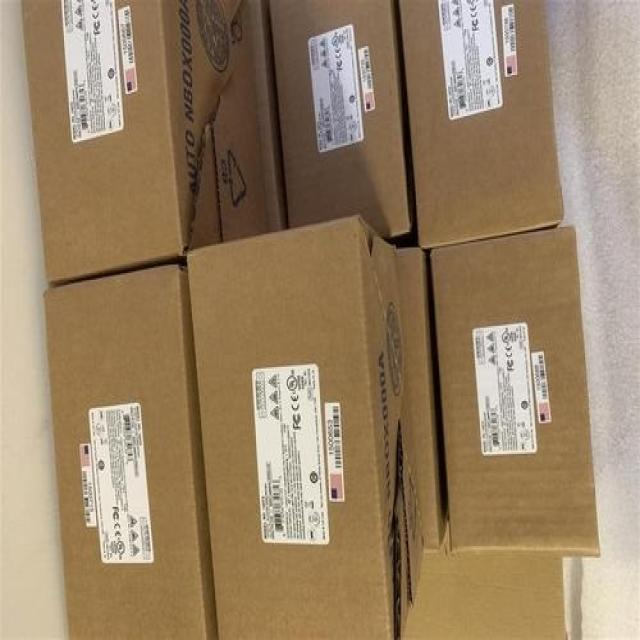box: (187, 215, 424, 640), (20, 0, 268, 285), (41, 261, 216, 640), (429, 225, 600, 556), (398, 0, 566, 249), (270, 0, 416, 239), (403, 519, 567, 640), (385, 237, 448, 551), (247, 0, 289, 232)
